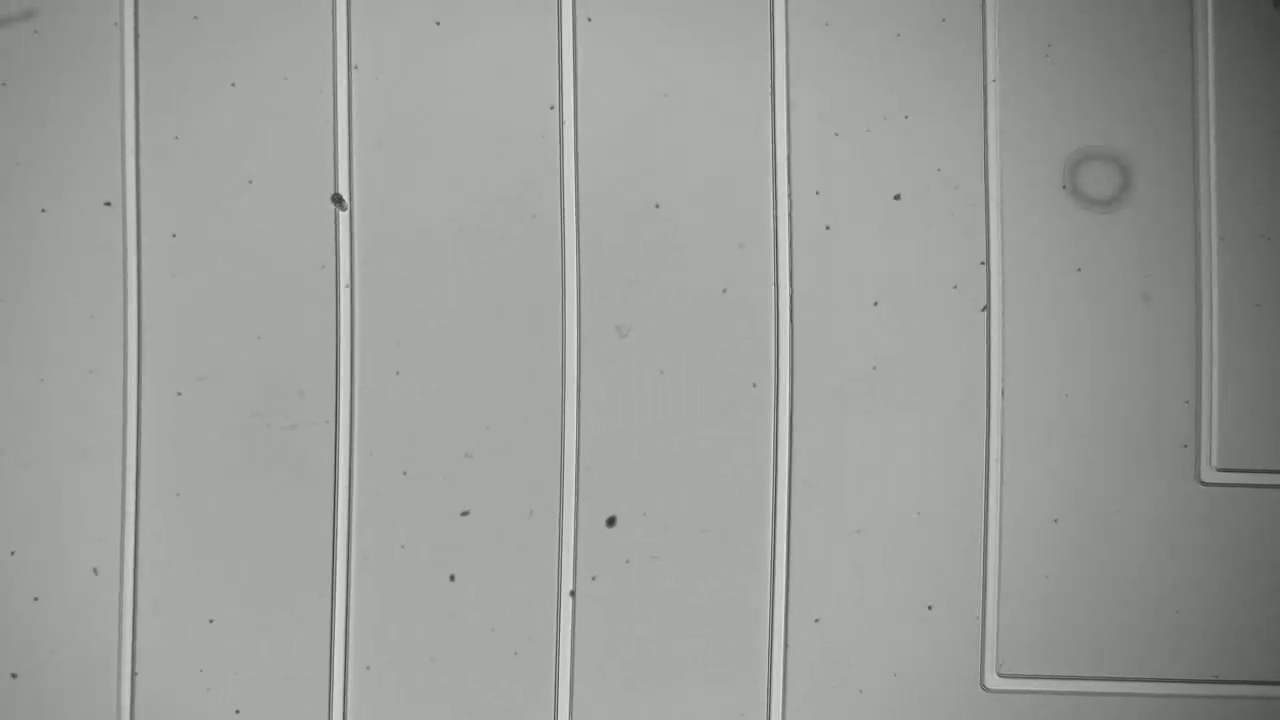stains_enbedded: (325, 184, 362, 218), (553, 578, 585, 608)
